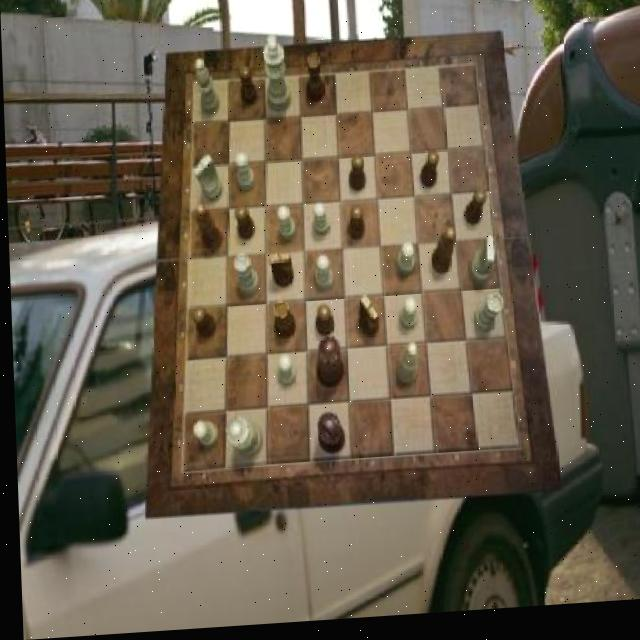bishop: (196, 206, 221, 255), (428, 234, 454, 281)
black-bishop: (314, 416, 343, 459)
black-king: (355, 298, 377, 341), (267, 255, 292, 292)
black-knight: (462, 195, 486, 232), (419, 156, 440, 195), (189, 309, 213, 343), (233, 207, 253, 244), (238, 70, 256, 109), (347, 160, 365, 197), (347, 209, 365, 244), (313, 308, 331, 341)
black-pawn: (312, 341, 340, 395)
black-queen: (304, 57, 323, 107), (271, 303, 293, 343)
black-rook: (195, 59, 219, 118), (392, 350, 416, 391)
white-bishop: (262, 37, 291, 116)
white-king: (193, 158, 222, 207), (468, 243, 495, 290)
white-knight: (234, 156, 255, 195), (189, 423, 215, 451), (313, 258, 331, 294), (394, 248, 413, 282), (276, 210, 294, 245), (311, 206, 329, 241), (274, 358, 293, 391), (397, 304, 416, 337)
white-pawn: (222, 418, 260, 462)
white-queen: (471, 300, 503, 340), (233, 256, 258, 299)
